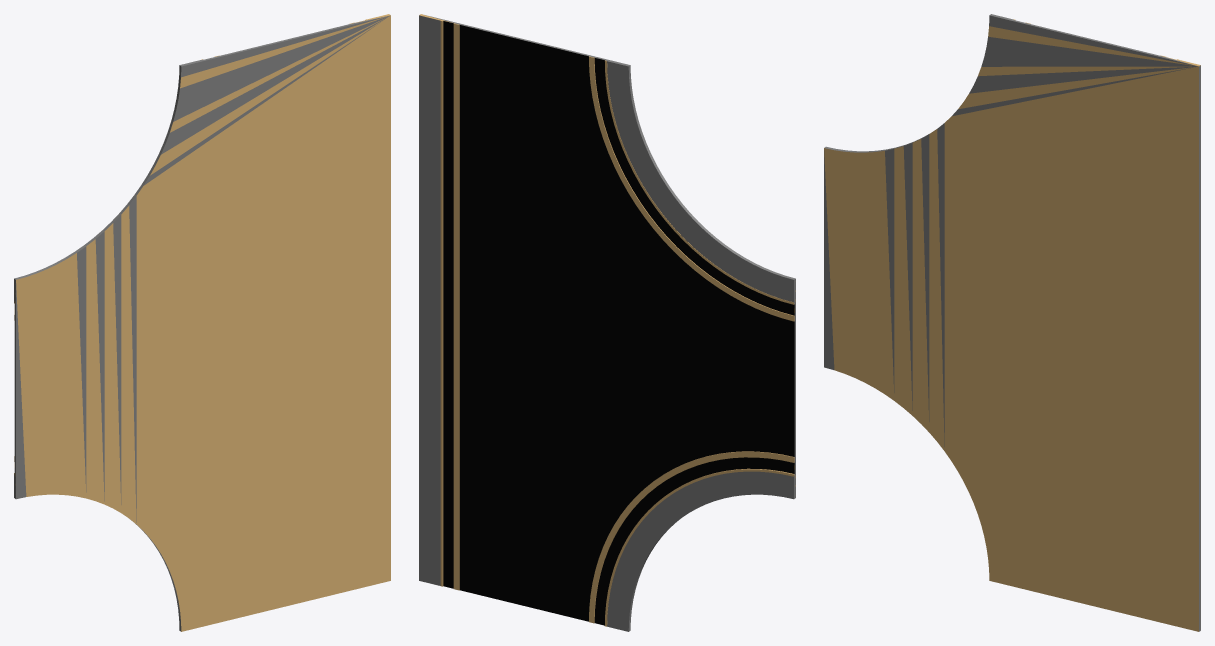
Rendered from t-section.fbx.
3 views of the same model, side by side, from view 1: azimuth 30°, elevation 25°; view 2: azimuth 150°, elevation 25°; view 3: azimuth 330°, elevation 25° (orthographic).
Parts seen in each view (by area): view 1: Road_T-Section; view 2: Road_T-Section; view 3: Road_T-Section.
Boxes of the visible parts, bbox=[...] form: Road_T-Section: bbox=[14, 14, 390, 631]; Road_T-Section: bbox=[419, 14, 795, 631]; Road_T-Section: bbox=[824, 14, 1200, 631].
Size of the model in its own units: 1735 by 2500 by 16.
